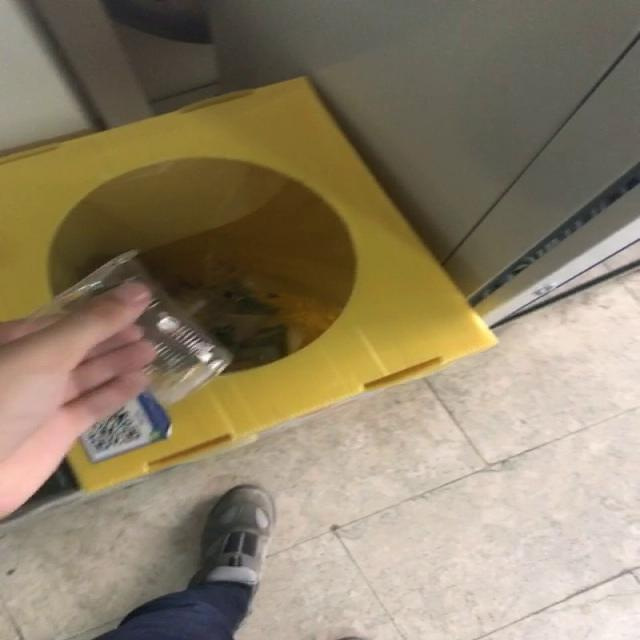plastic: (27, 250, 233, 406)
